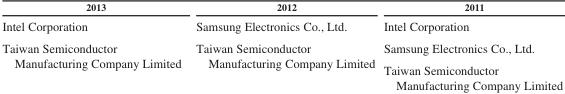table: (1, 1, 562, 91)
table column: (187, 1, 378, 91), (1, 1, 187, 91), (378, 1, 562, 91)
table column header: (1, 1, 562, 15)
table row: (1, 36, 562, 66), (1, 66, 562, 91), (1, 15, 562, 36), (1, 1, 562, 15)
table spanning cell: (1, 36, 187, 91)
